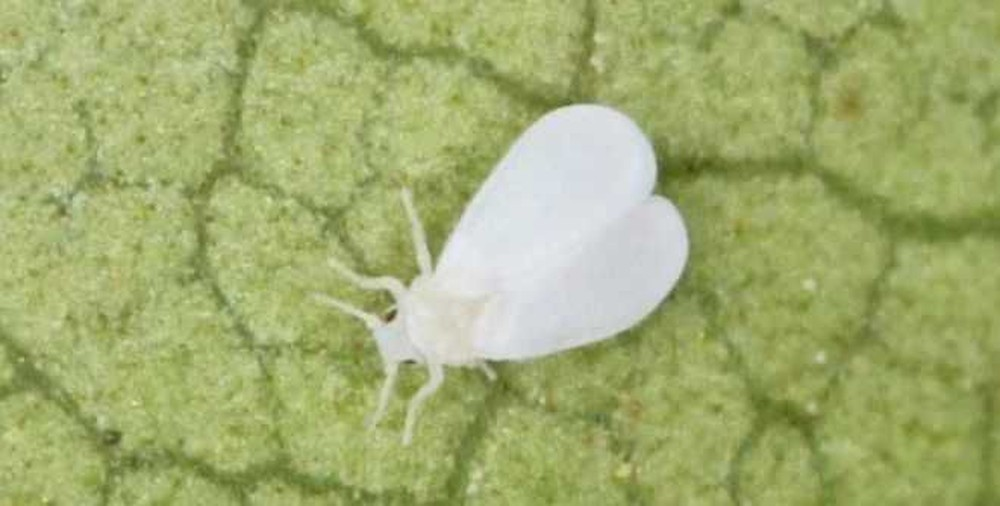Mosca Blanca: (328, 98, 702, 442)
